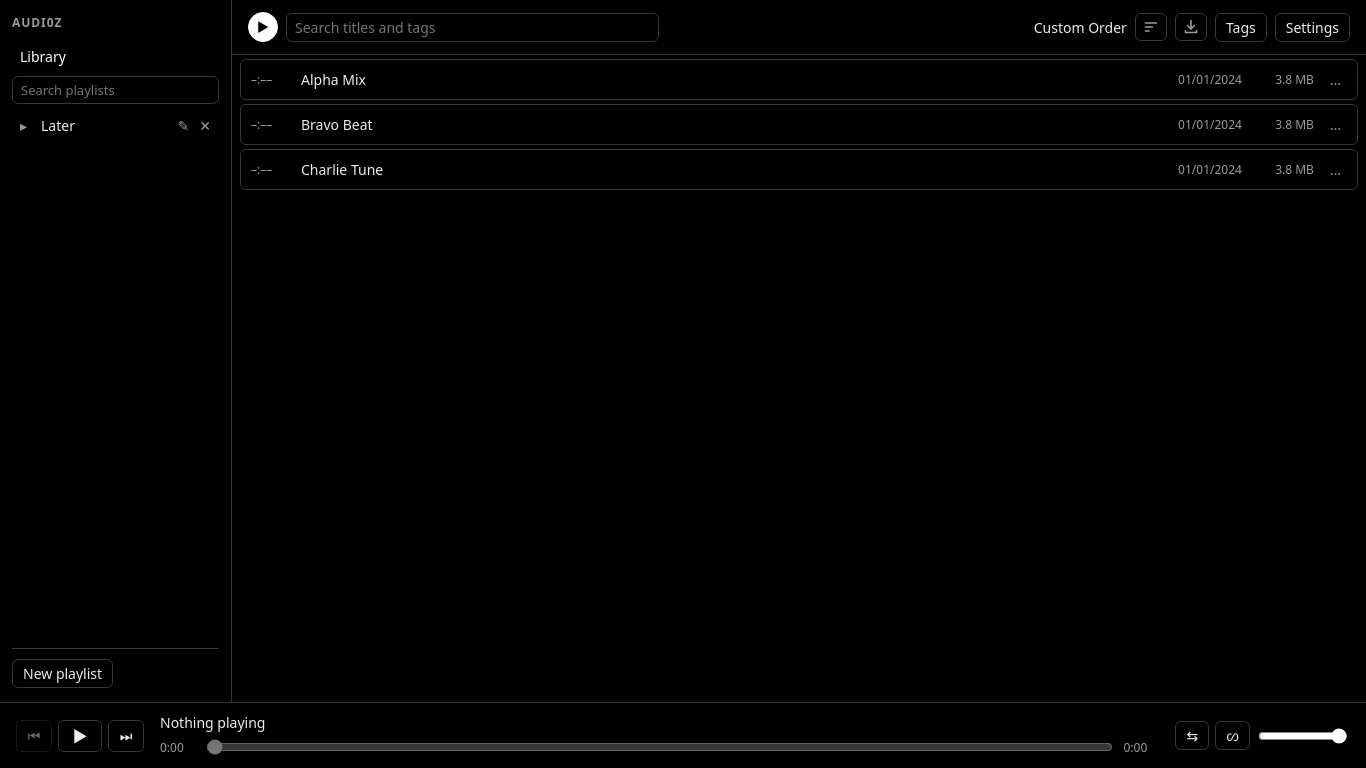
Test case: Sidebar › says so when an expanded playlist has nothing in it
This screenshot has width=1366, height=768.
Click the button named "Expand Later": (24, 126) [16, 114, 31, 137]
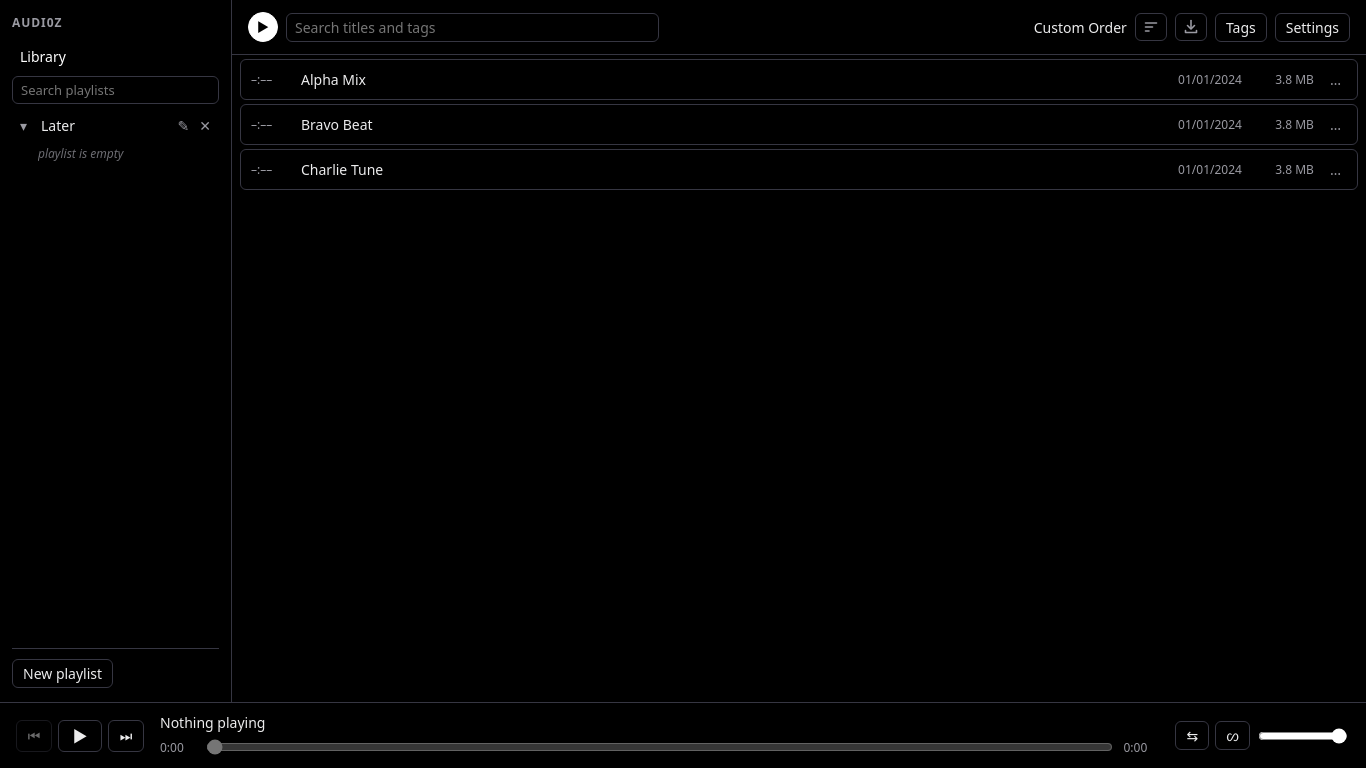
Check: the list item "playlist is empty" is shown, box [38, 145, 123, 162]
